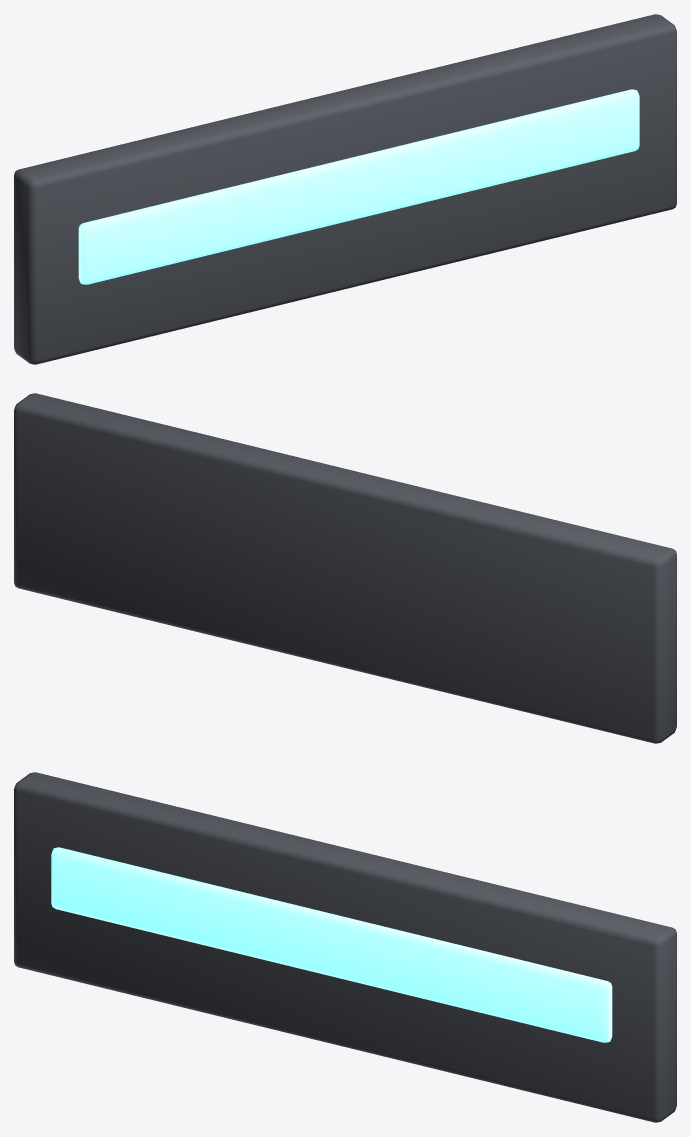
File: sign.glb
The picture shows the model from 3 angles, top to bottom: view 1: azimuth 30°, elevation 25°; view 2: azimuth 150°, elevation 25°; view 3: azimuth 330°, elevation 25°; orthographic projection.
Visible parts, largest first — view 1: sign; view 2: sign; view 3: sign.
Boxes of the visible parts, <box> form: sign: <box>14,14,676,364</box>; sign: <box>14,393,676,743</box>; sign: <box>14,772,676,1122</box>.
Bounding box in the file's own units: 1.1 × 0.3 × 0.08.
